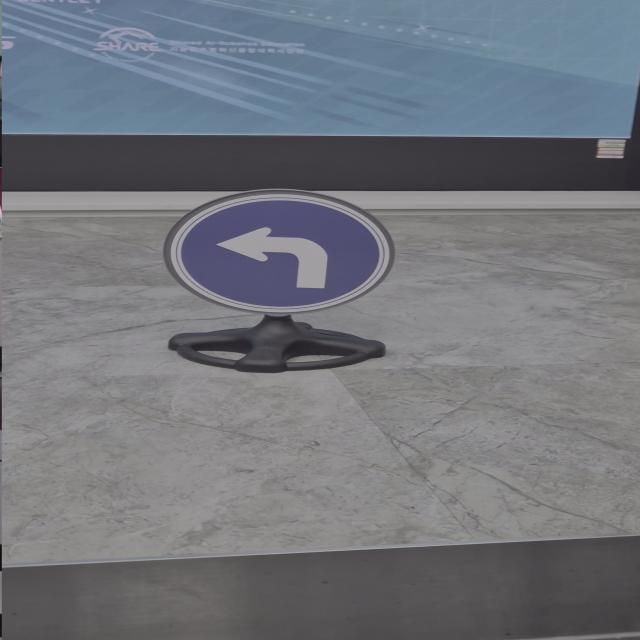left_direction: (140, 171, 427, 344)
